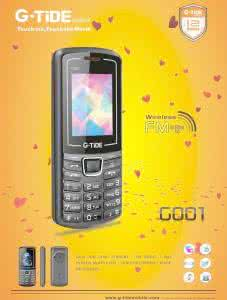phone: (57, 53, 121, 227)
